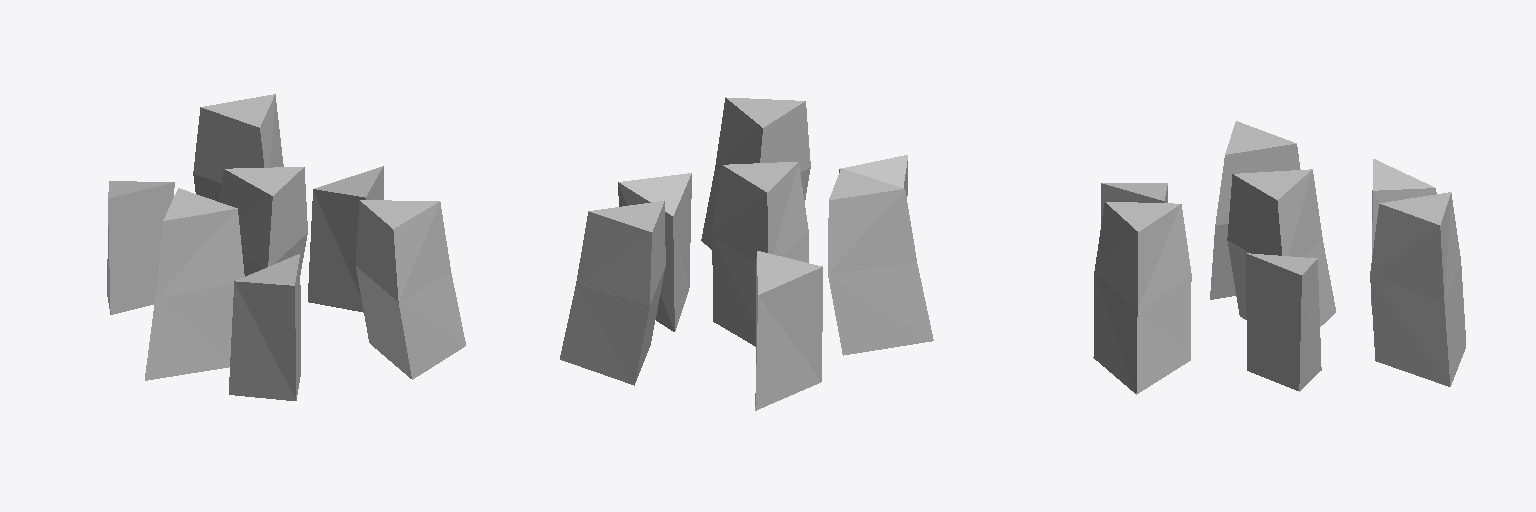
File: GrassBunch3.obj
3 renders of one model, left to right at view 1: azimuth 30°, elevation 25°; view 2: azimuth 150°, elevation 25°; view 3: azimuth 270°, elevation 25°, orthographic.
Parts seen in each view (by area): view 1: GrassBunch3_Circle.028; view 2: GrassBunch3_Circle.028; view 3: GrassBunch3_Circle.028.
Boxes of the visible parts, box(x1,y1,x2,y2) form: GrassBunch3_Circle.028: box(107, 94, 465, 400); GrassBunch3_Circle.028: box(560, 97, 933, 410); GrassBunch3_Circle.028: box(1093, 121, 1465, 394).
Size of the model in its own units: 0.527 by 0.287 by 0.6136.